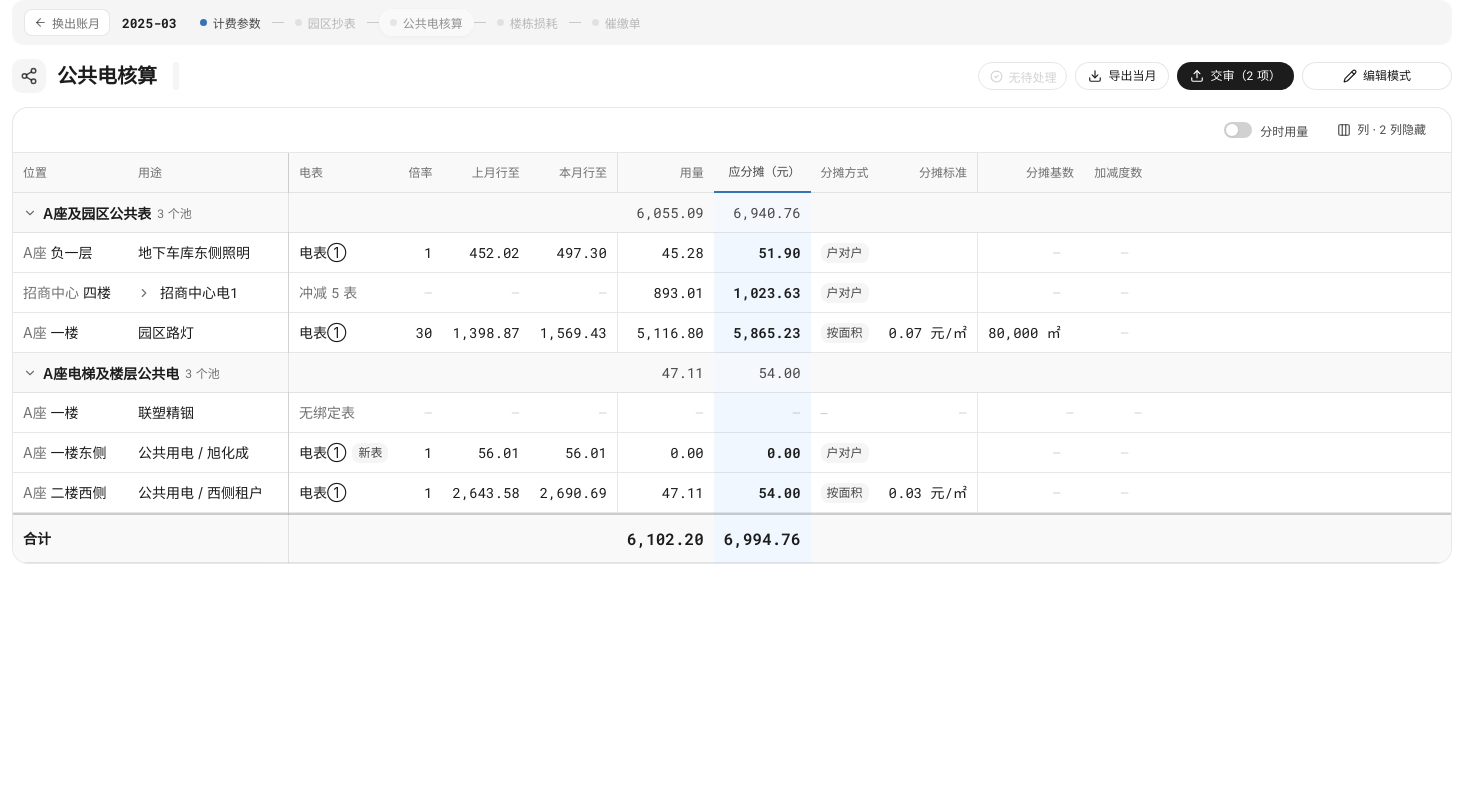
Scenario: P4-B3 分组行兼小计与逐行写法(03-A) › ❗浏览态点用途名开合分时段;点 › 不会叠成两下
Step 1. Click the text "招商中心电1" → (199, 292), box left=160, top=282, right=238, bottom=302
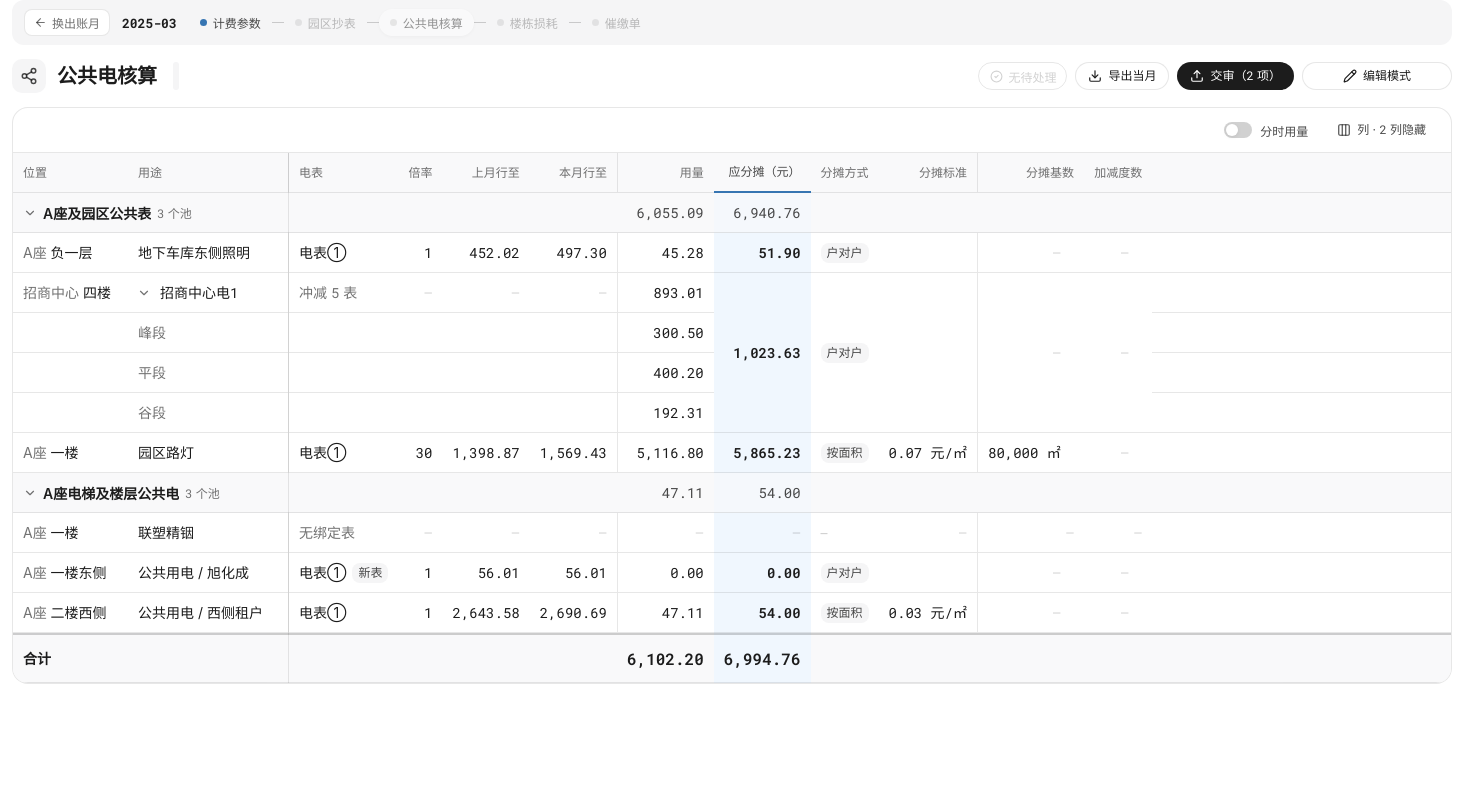
Step 2. Click the button named "看分时段用量" → (144, 292), box left=134, top=282, right=154, bottom=302
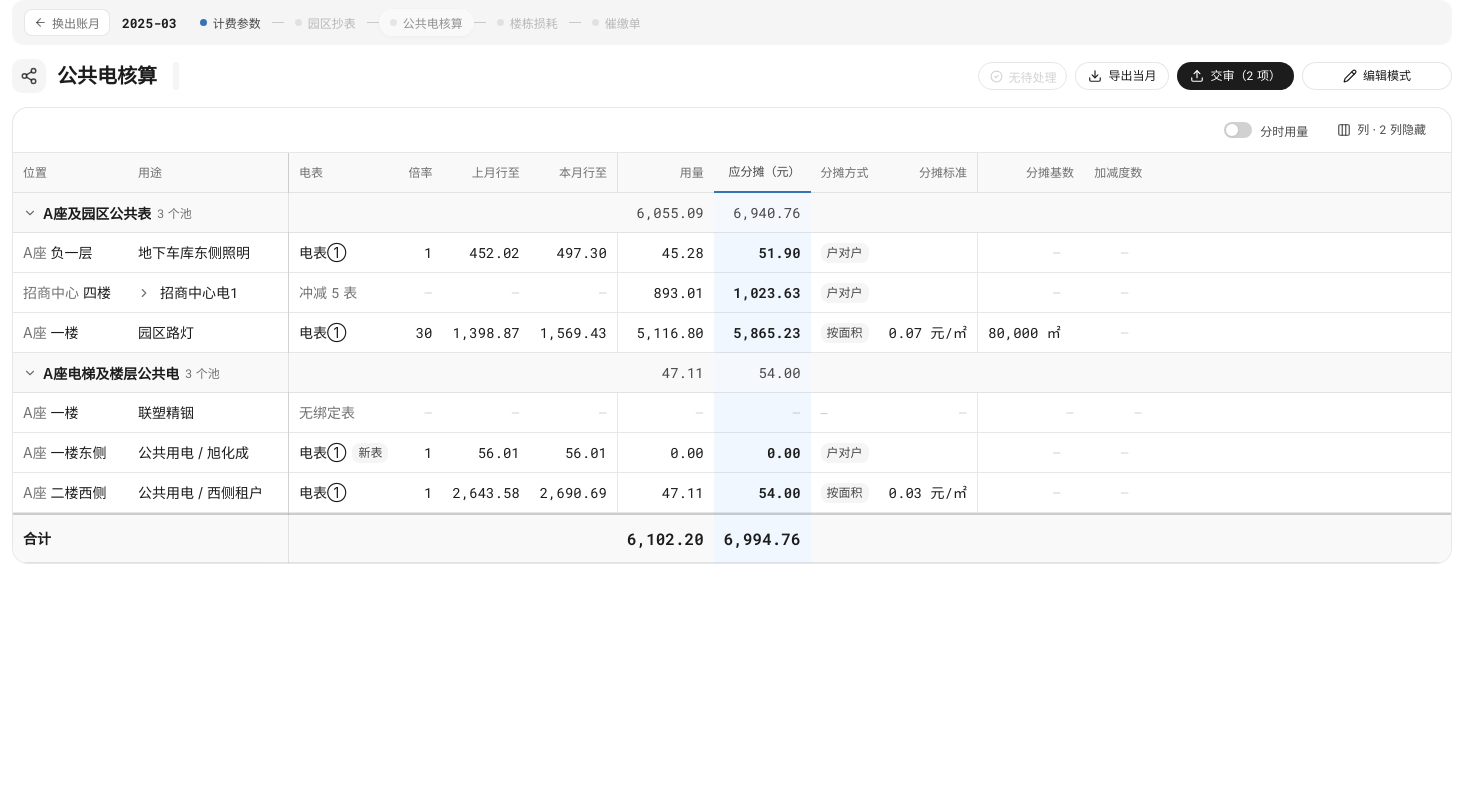
Check: no rows are shown
